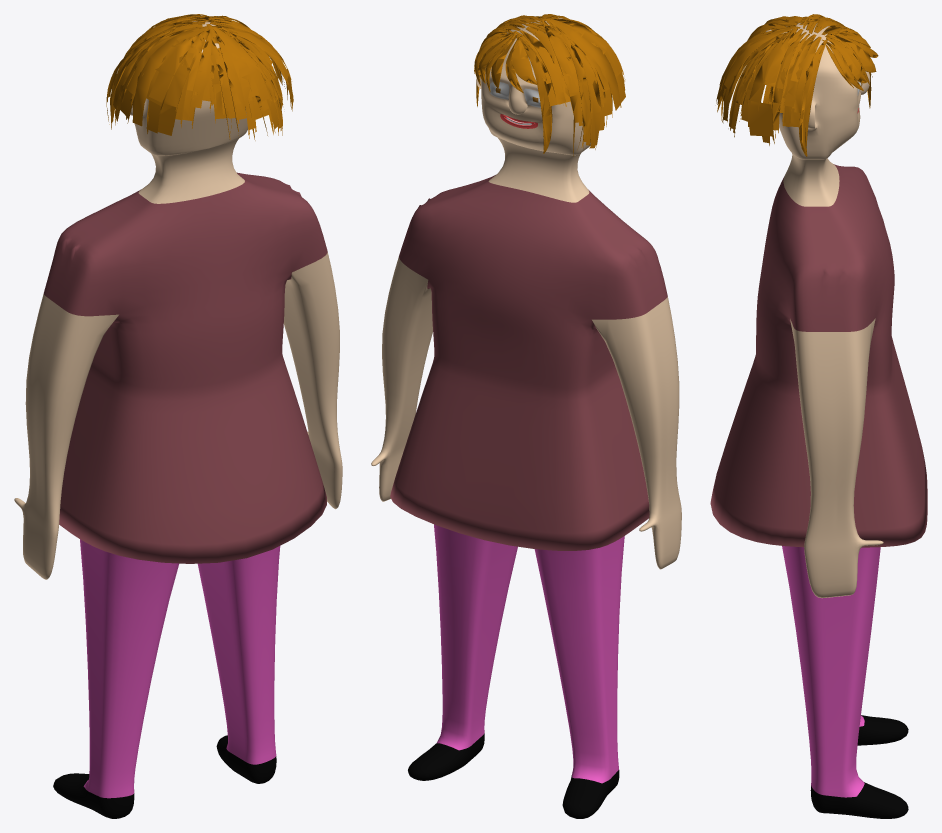
File: Kind_2_Kleid.fbx
3 views of the same model, side by side, from view 1: azimuth 30°, elevation 25°; view 2: azimuth 150°, elevation 25°; view 3: azimuth 270°, elevation 25° (orthographic). The views are drawn at different scales.
Parts seen in each view (by area): view 1: Cube, NurbsPath.001; view 2: Cube, NurbsPath.001; view 3: Cube, NurbsPath.001.
Boxes of the visible parts, bbox=[...] form: Cube: bbox=[14, 21, 342, 818]; NurbsPath.001: bbox=[106, 14, 293, 140]; Cube: bbox=[371, 17, 681, 818]; NurbsPath.001: bbox=[474, 14, 625, 156]; Cube: bbox=[710, 23, 927, 818]; NurbsPath.001: bbox=[716, 14, 878, 156].
Size of the model in its own units: 36.71 by 92.12 by 23.96.
